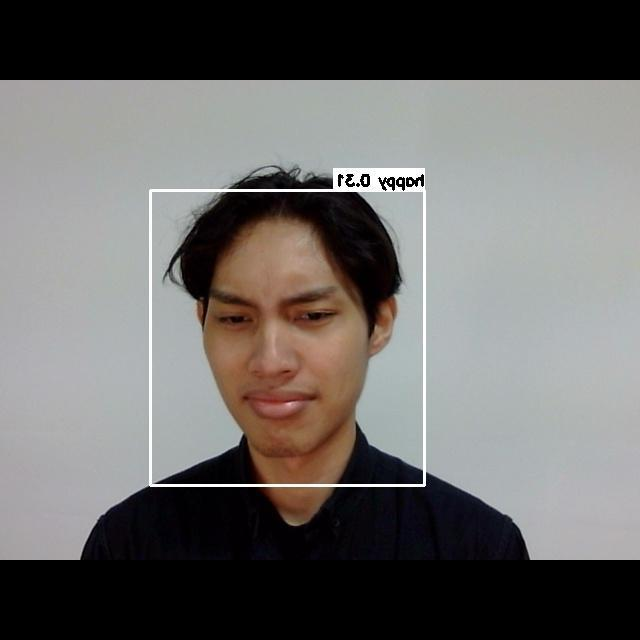Disgust: (183, 259, 376, 438)
